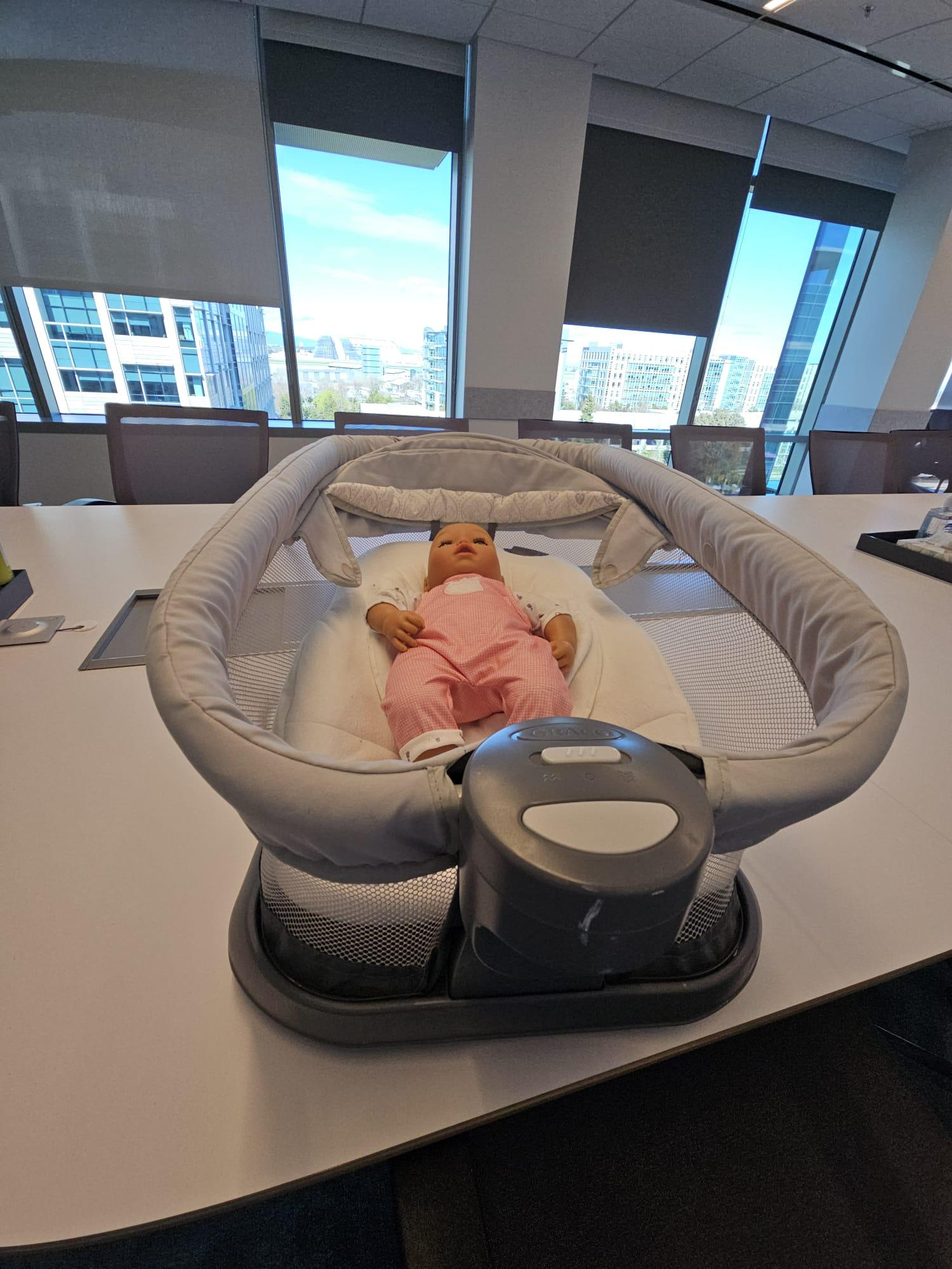baby: (355, 495, 602, 789)
